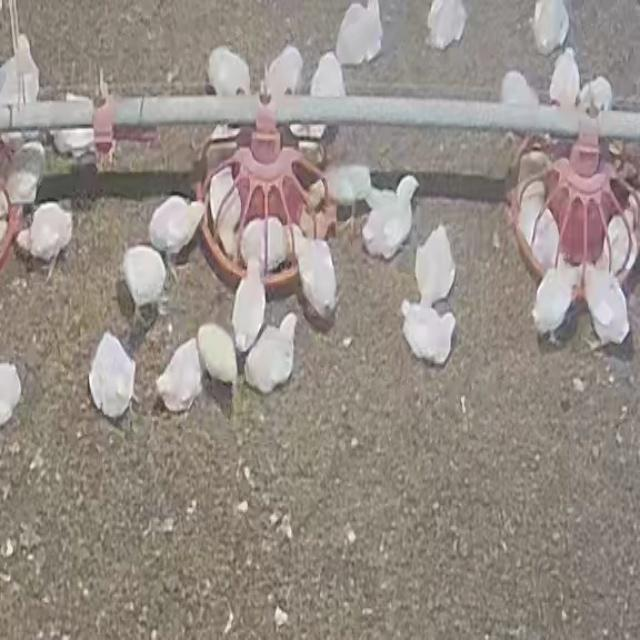chicken: (364, 175, 419, 261), (148, 194, 206, 272), (244, 313, 298, 395), (88, 330, 136, 422), (513, 178, 562, 266), (293, 230, 338, 323), (310, 159, 372, 224), (17, 202, 77, 268), (155, 336, 205, 414), (120, 242, 169, 321), (400, 301, 459, 365), (532, 261, 580, 338), (584, 266, 628, 346), (596, 198, 640, 276), (0, 31, 46, 105), (416, 227, 458, 308), (231, 258, 267, 352), (207, 166, 242, 258), (335, 0, 383, 65), (240, 216, 288, 272), (4, 136, 46, 200), (200, 319, 239, 383), (206, 46, 252, 98), (426, 0, 468, 51), (548, 51, 582, 111), (531, 0, 568, 55), (309, 52, 346, 102)
